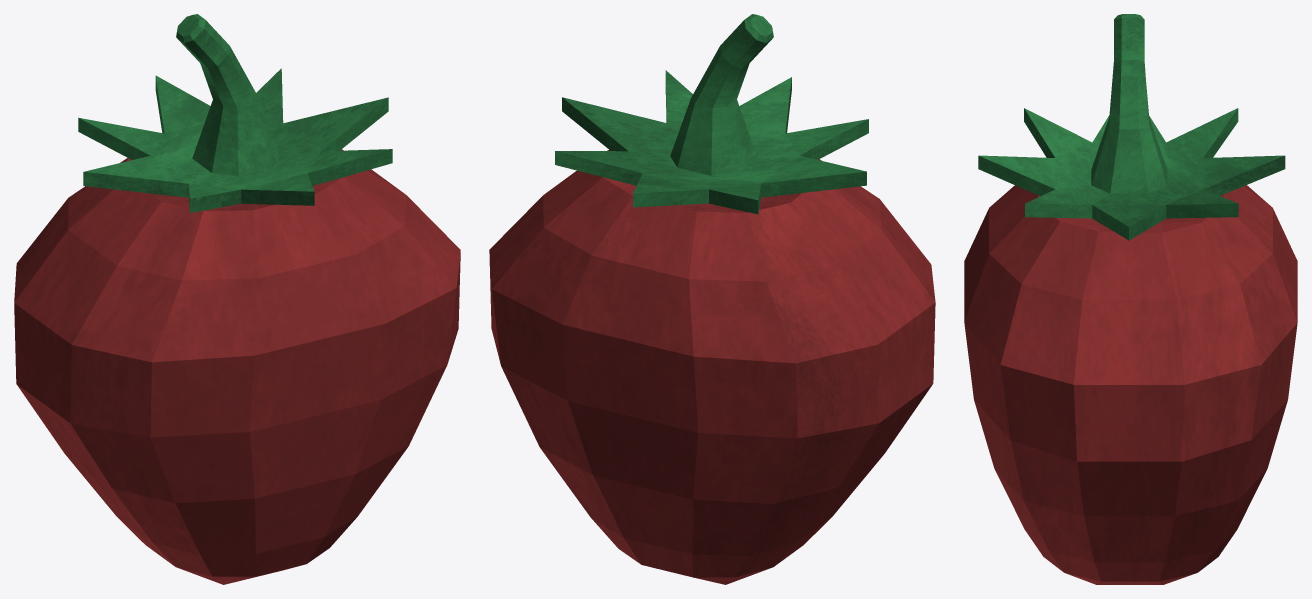
Rendered from Strawberry.fbx.
The picture shows the model from 3 angles, left to right: view 1: azimuth 30°, elevation 25°; view 2: azimuth 150°, elevation 25°; view 3: azimuth 270°, elevation 25°; orthographic projection. The views are drawn at different scales.
Visible parts, largest first — view 1: Maduixa, Palo; view 2: Maduixa, Palo; view 3: Maduixa, Palo.
Boxes of the visible parts, x1,y1,x2,y2 form: Maduixa: [14, 149, 460, 584]; Palo: [78, 14, 392, 212]; Maduixa: [489, 150, 935, 584]; Palo: [555, 14, 868, 214]; Maduixa: [964, 185, 1297, 584]; Palo: [978, 14, 1285, 240].
Bounding box in the file's own units: 116 × 159 × 89.15.
Materials: 2 (2 with a texture image).
